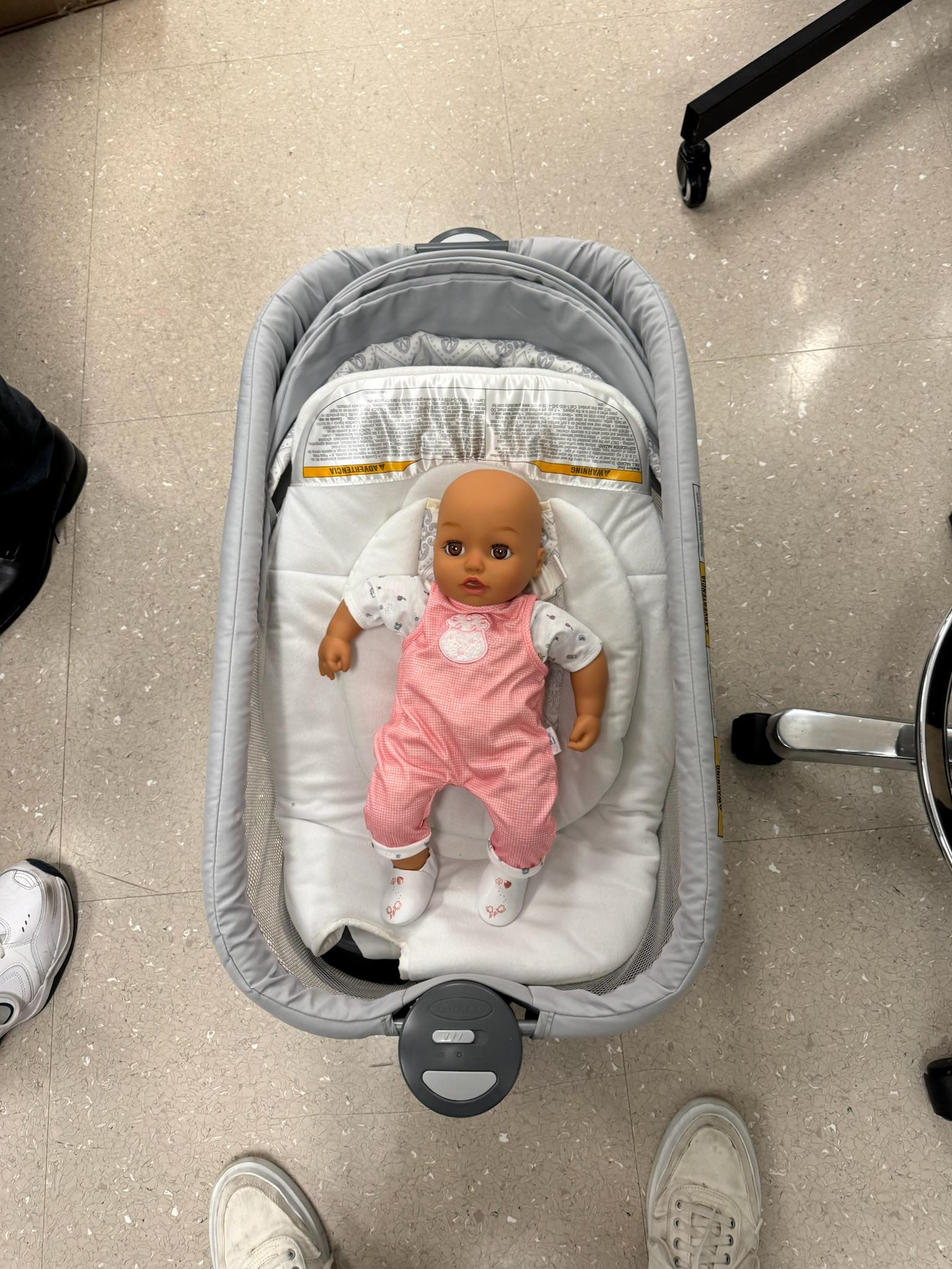baby: (310, 455, 618, 928)
